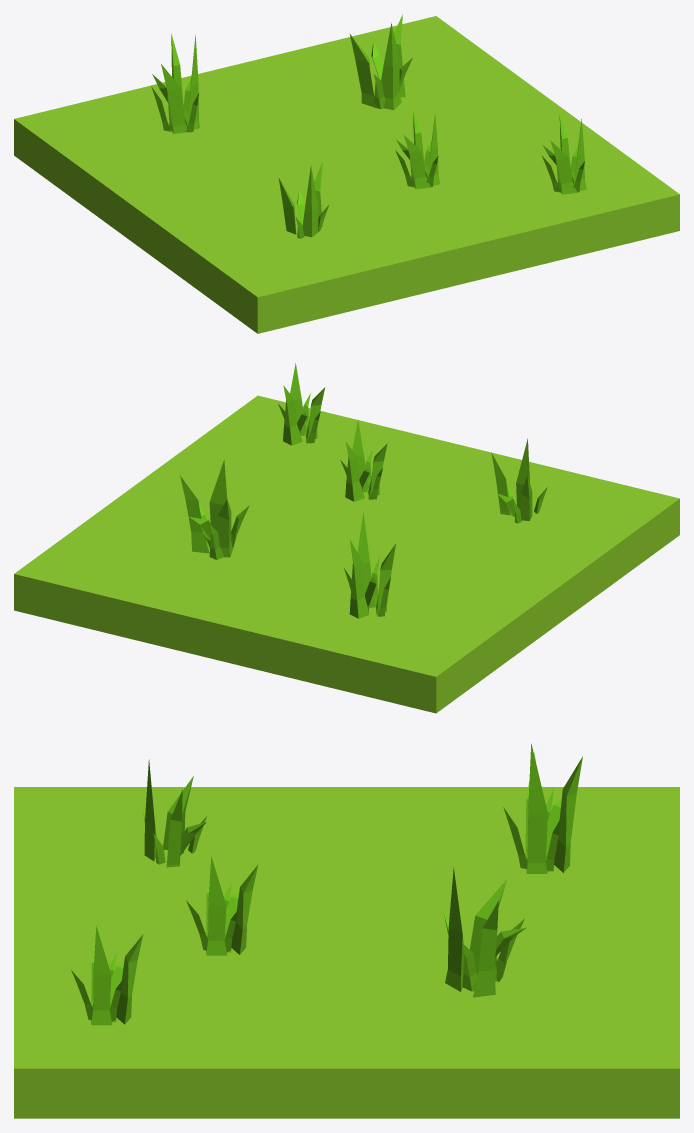
The model's file is GrassTile.fbx.
3 renders of one model, top to bottom at view 1: azimuth 30°, elevation 25°; view 2: azimuth 150°, elevation 25°; view 3: azimuth 270°, elevation 25°, orthographic. The views are drawn at different scales.
Visible parts, largest first — view 1: Cube; view 2: Cube; view 3: Cube.
Part boxes in pixels (<box>): Cube: <box>14,14,679,333</box>; Cube: <box>14,363,679,713</box>; Cube: <box>14,743,679,1118</box>.
Bounding box in the file's own units: 100 × 30.8 × 100.
